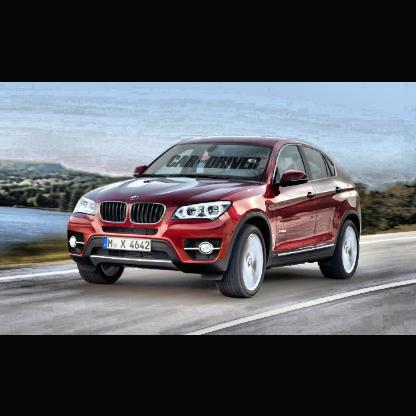BMW X6 SUV 2012: (68, 135, 364, 300)
